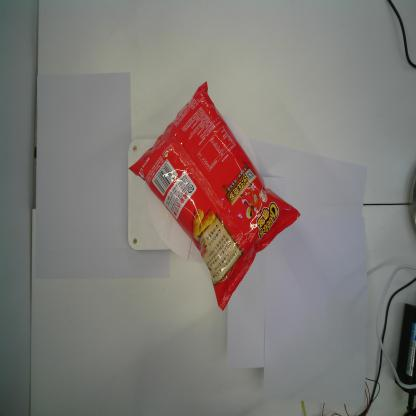Puffed Food: (128, 81, 300, 312)
